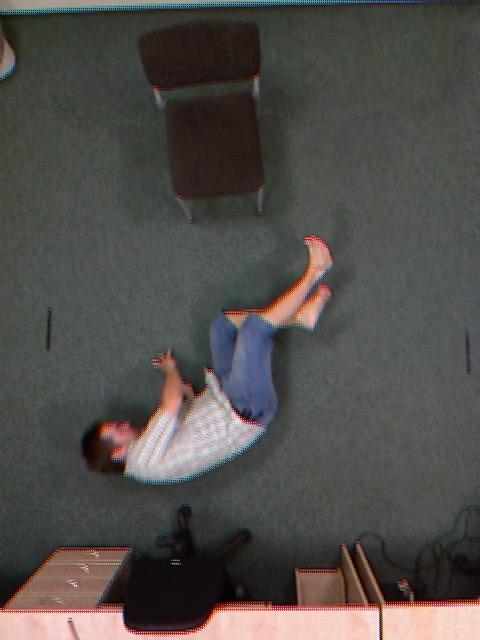fall: (112, 186, 303, 534)
